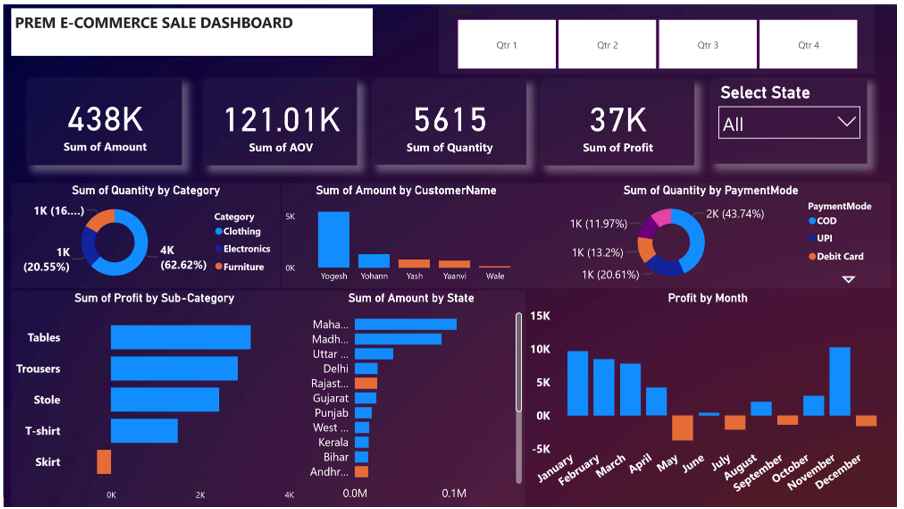

The page's visual inventory and layout, read from the dashboard file:
{"tool":"powerbi","page":{"name":"Page 1","canvas":[1280,720],"ordinal":0},"visuals":[{"type":"textbox","box":[11.7,5,518.3,68.3],"z":0},{"type":"columnChart","title":"Profit by Month","fields":{"Category":["Orders.Order Date.Variation.Date Hierarchy.Month"],"Y":["Details.Profit"]},"box":[747.5,409.9,524.1,310.8],"z":1000},{"type":"barChart","fields":{"Category":["Details.Sub-Category"],"Y":["Details.Profit"]},"box":[11.8,409.9,409.9,310.8],"z":2000},{"type":"donutChart","fields":{"Category":["Details.Category"],"Y":["Details.Quantity"]},"box":[11.4,255.7,385.7,151.4],"z":3000},{"type":"donutChart","fields":{"Category":["Details.PaymentMode"],"Y":["Details.Quantity"]},"box":[755.9,255.3,515.7,151.2],"z":4000},{"type":"card","fields":{"Values":["Details.Amount"]},"box":[35.3,107.5,220.1,122.6],"z":5000},{"type":"card","fields":{"Values":["Details.Quantity"]},"box":[530,108.6,218.6,121.4],"z":6000},{"type":"card","fields":{"Values":["Details.Profit"]},"box":[772,108,218,122],"z":7000},{"type":"card","fields":{"Values":["Details.AOV"]},"box":[288.3,108.3,218.3,121.7],"z":8000},{"type":"barChart","fields":{"Category":["Orders.State"],"Y":["Details.Amount"]},"box":[421.6,409.9,325.9,310.8],"z":9000},{"type":"columnChart","fields":{"Category":["Orders.CustomerName"],"Y":["Details.Amount"]},"box":[398.6,255.7,357.1,151.4],"z":10000},{"type":"slicer","fields":{"Values":["Orders.Order Date.Variation.Date Hierarchy.Quarter"]},"box":[624.3,0,624.3,100],"z":11000},{"type":"slicer","fields":{"Values":["Orders.State"]},"box":[1014.6,107.5,223.4,120.9],"z":12000}]}

Visuals, with their boxes in screenshot pixels (x1, y1, x2, y2), scaled from the page's 1280x720 canvas onto the 904x509 screenshot:
textbox: [x1=8, y1=4, x2=374, y2=52]
"Profit by Month" columnChart: [x1=528, y1=290, x2=898, y2=508]
barChart - Details.Sub-Category x Details.Profit: [x1=8, y1=290, x2=298, y2=508]
donutChart - Details.Category x Details.Quantity: [x1=8, y1=181, x2=280, y2=288]
donutChart - Details.PaymentMode x Details.Quantity: [x1=534, y1=180, x2=898, y2=287]
card - Details.Amount: [x1=25, y1=76, x2=180, y2=163]
card - Details.Quantity: [x1=374, y1=77, x2=529, y2=163]
card - Details.Profit: [x1=545, y1=76, x2=699, y2=163]
card - Details.AOV: [x1=204, y1=77, x2=358, y2=163]
barChart - Orders.State x Details.Amount: [x1=298, y1=290, x2=528, y2=508]
columnChart - Orders.CustomerName x Details.Amount: [x1=282, y1=181, x2=534, y2=288]
slicer - Orders.Order Date.Variation.Date Hierarchy.Quarter: [x1=441, y1=0, x2=882, y2=71]
slicer - Orders.State: [x1=717, y1=76, x2=874, y2=161]
